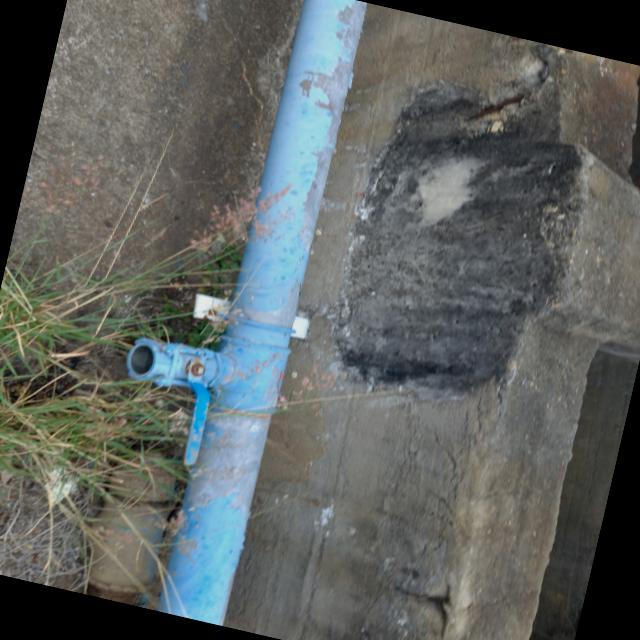gas: (154, 0, 376, 628)
